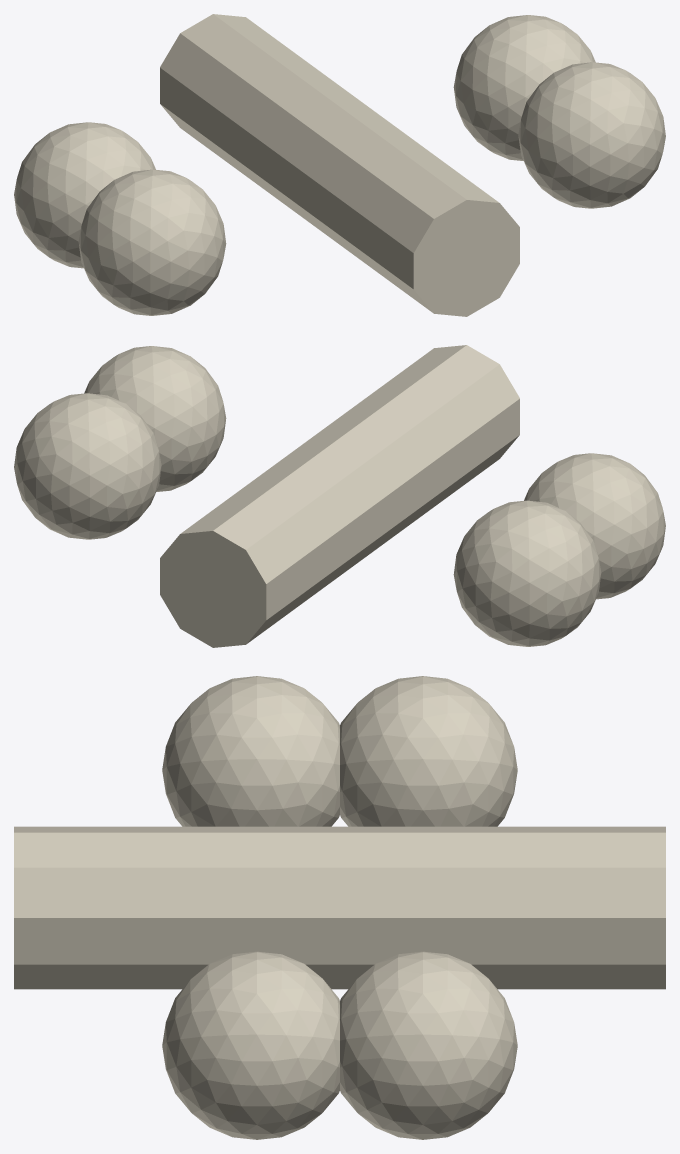
The model's file is hueso.glb.
3 renders of one model, top to bottom at view 1: azimuth 30°, elevation 25°; view 2: azimuth 150°, elevation 25°; view 3: azimuth 270°, elevation 25°, orthographic. The views are drawn at different scales.
Visible parts, largest first — view 1: bone; view 2: bone; view 3: bone.
Boxes of the visible parts, bbox=[...] form: bone: bbox=[14, 14, 665, 316]; bone: bbox=[14, 345, 665, 647]; bone: bbox=[14, 676, 665, 1139].
Bounding box in the file's own units: 0.284 × 0.064 × 0.22.
